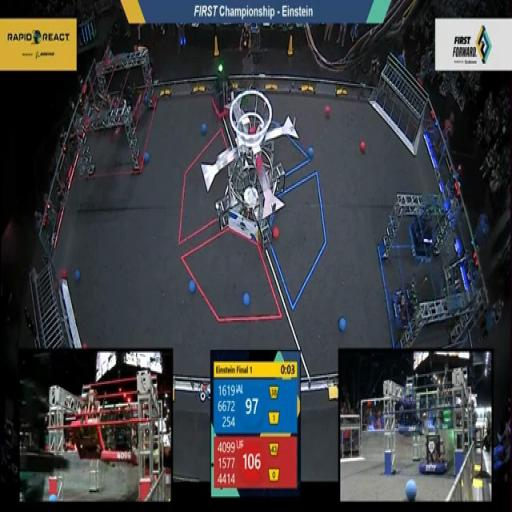robot: (404, 196, 442, 265), (206, 56, 238, 122), (111, 64, 143, 128), (389, 272, 423, 330), (90, 84, 120, 146)
